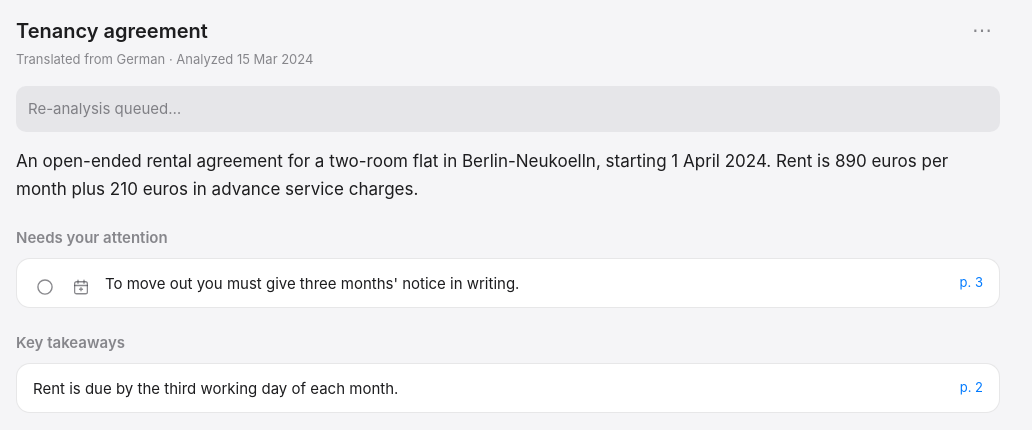
Scenario: ExtractionPanel › disables re-analyze while queued
What coordinates should you click on to do the following:
click the button named "More actions"
I would click on:
 (982, 30)
Its box is [964,16,1000,44].
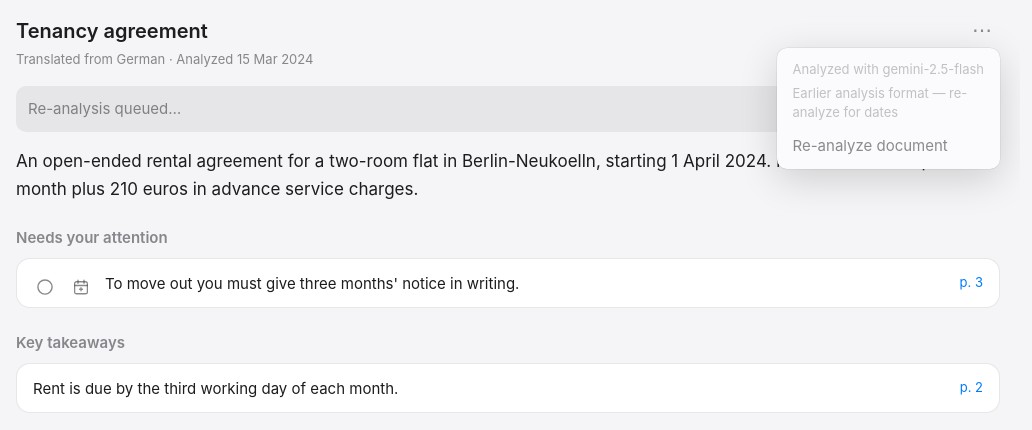
Now the menu item "Re-analyze document" is disabled, box [776,126,1000,165]
